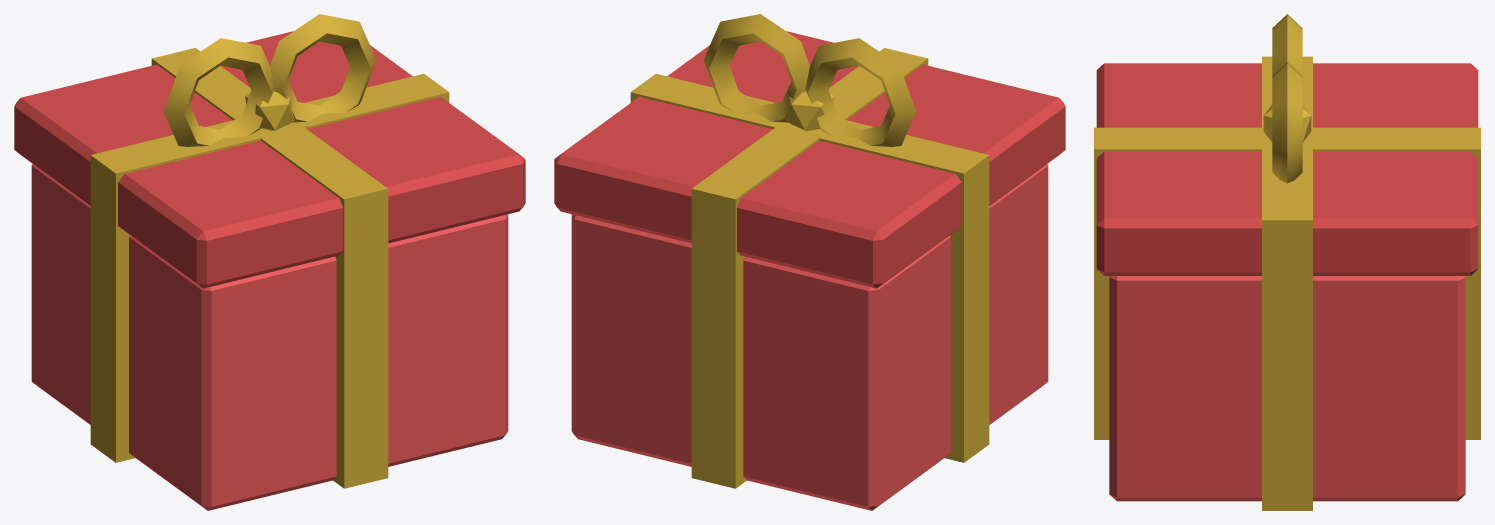
File: gift_box.glb
The picture shows the model from 3 angles, left to right: view 1: azimuth 30°, elevation 25°; view 2: azimuth 150°, elevation 25°; view 3: azimuth 270°, elevation 25°; orthographic projection.
Parts seen in each view (by area): view 1: gift_box; view 2: gift_box; view 3: gift_box.
Boxes of the visible parts, x1,y1,x2,y2 form: gift_box: (14, 14, 525, 510); gift_box: (554, 14, 1065, 510); gift_box: (1094, 14, 1480, 510).
Bounding box in the file's own units: 0.304 × 0.337 × 0.304.
